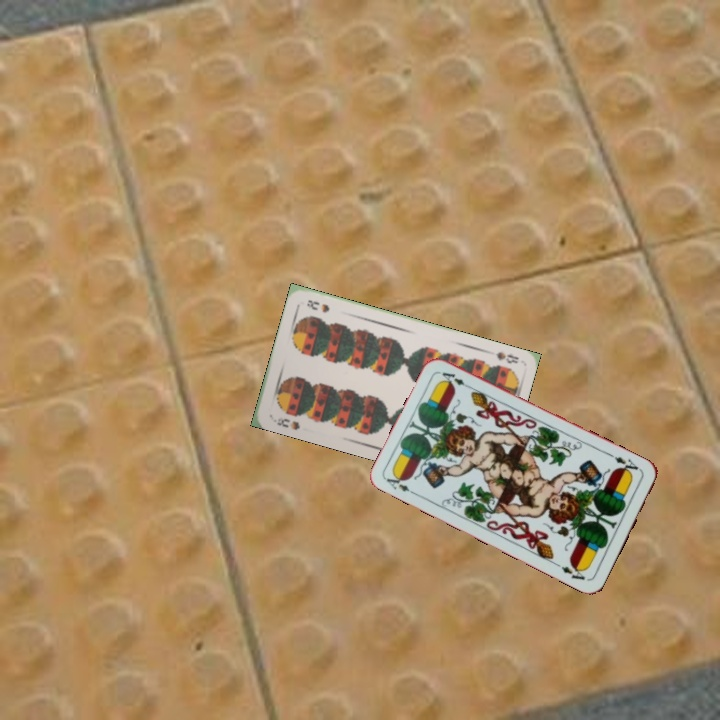EA: (382, 470, 420, 498), (610, 453, 644, 478)
S8: (268, 411, 302, 432), (492, 348, 521, 366)
